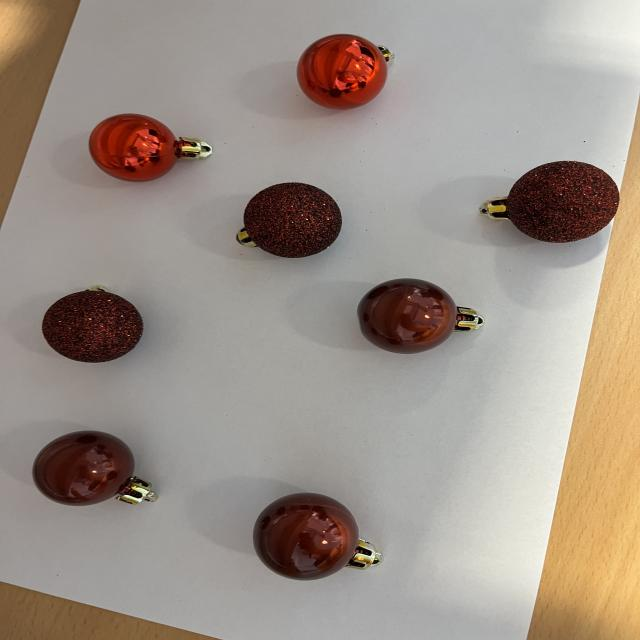glitter-bauble: (468, 156, 623, 248), (478, 161, 619, 243), (232, 180, 345, 260), (39, 283, 146, 366), (236, 183, 342, 259), (42, 284, 143, 363)
glossy-bauble: (81, 107, 218, 189), (88, 113, 212, 183), (289, 32, 398, 111), (297, 34, 394, 111)
wine-red-bauble: (245, 486, 388, 586), (349, 274, 490, 358), (253, 492, 385, 581), (25, 427, 161, 512), (357, 278, 486, 355), (32, 430, 159, 508)
